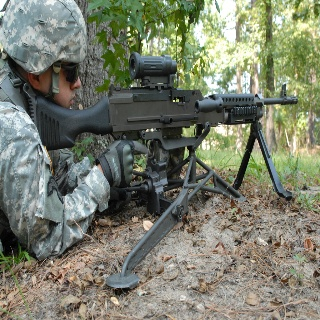rifle: (30, 50, 297, 200)
